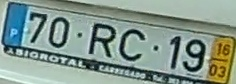0: (46, 15, 70, 49)
1: (167, 34, 182, 71)
7: (27, 9, 48, 45)
9: (181, 37, 207, 74)
C: (117, 27, 147, 62)
R: (85, 20, 117, 59)
